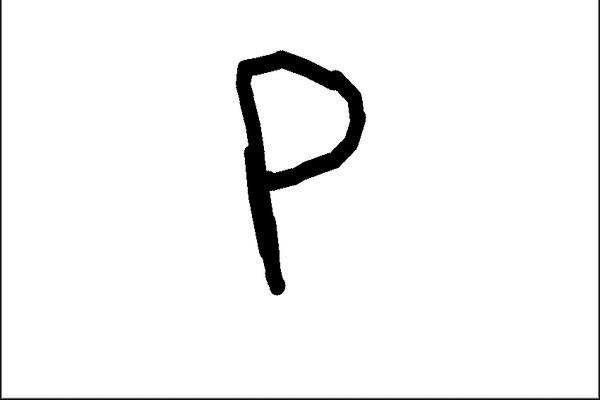P: (213, 40, 386, 302)
